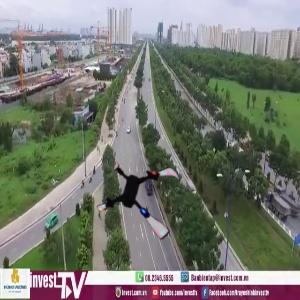drone: (96, 154, 190, 248)
